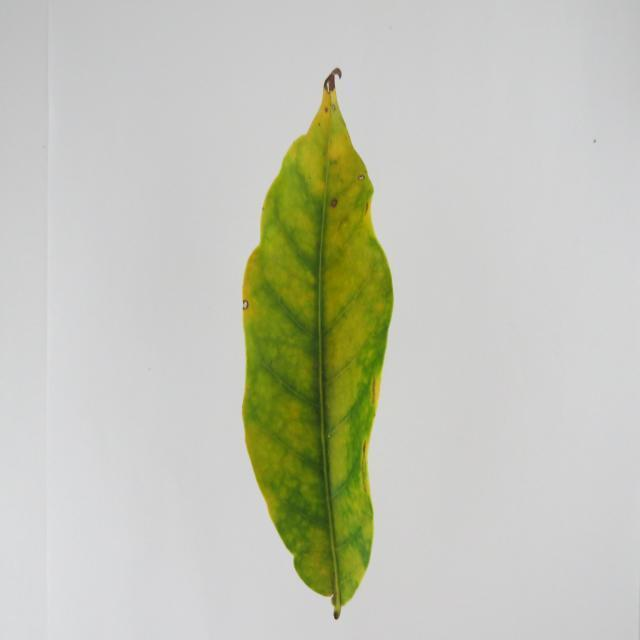DeficienciaNutricional-Nitrogeno: (242, 68, 394, 618)
